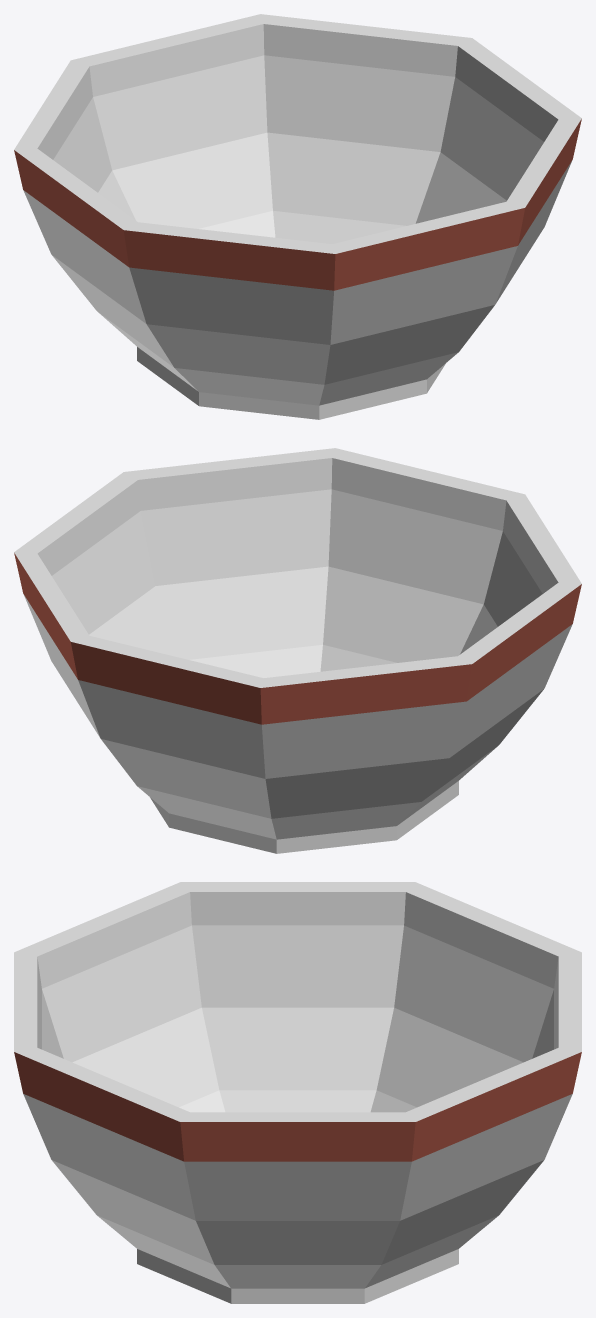
File: Plate4_C3.fbx
3 views of the same model, one above another, from view 1: azimuth 30°, elevation 25°; view 2: azimuth 150°, elevation 25°; view 3: azimuth 270°, elevation 25° (orthographic). The views are drawn at different scales.
Visible parts, largest first — view 1: Plate4_C3; view 2: Plate4_C3; view 3: Plate4_C3.
Boxes of the visible parts, left/top/right/bottom form: Plate4_C3: left=14, top=14, right=581, bottom=419; Plate4_C3: left=14, top=448, right=581, bottom=853; Plate4_C3: left=14, top=882, right=581, bottom=1303.
Bounding box in the file's own units: 17.94 × 8.15 × 17.94.
